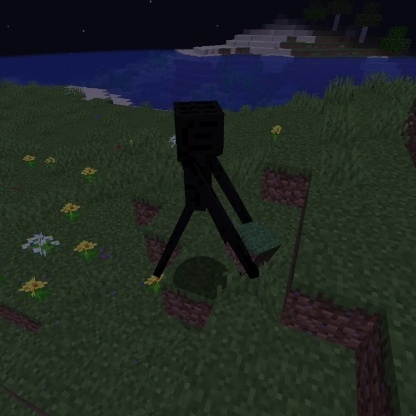enderman: (150, 98, 274, 281)
